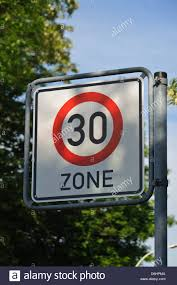Speed_limit_30km: (54, 92, 124, 168)
